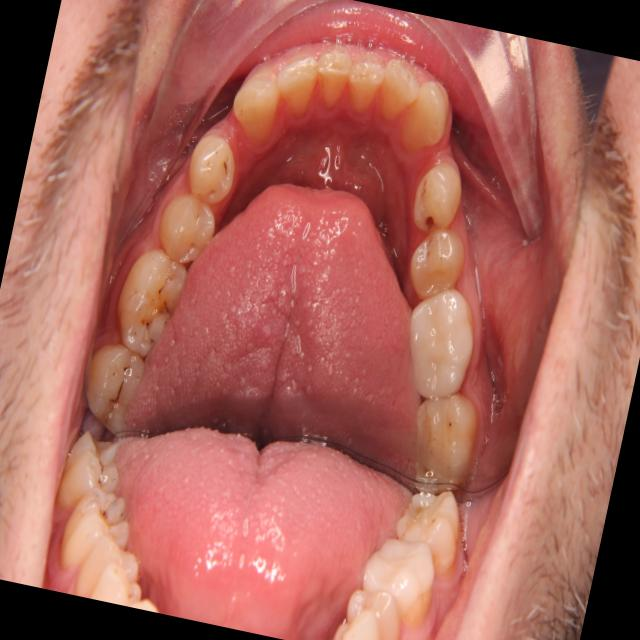tooth: (390, 276, 490, 409), (103, 237, 201, 372), (397, 378, 486, 500), (71, 335, 158, 447), (397, 214, 474, 308), (151, 183, 225, 271), (177, 121, 245, 214), (221, 58, 287, 150), (393, 70, 459, 160), (405, 150, 471, 239), (265, 41, 326, 122), (373, 49, 430, 130), (304, 37, 357, 114), (339, 49, 391, 122)
